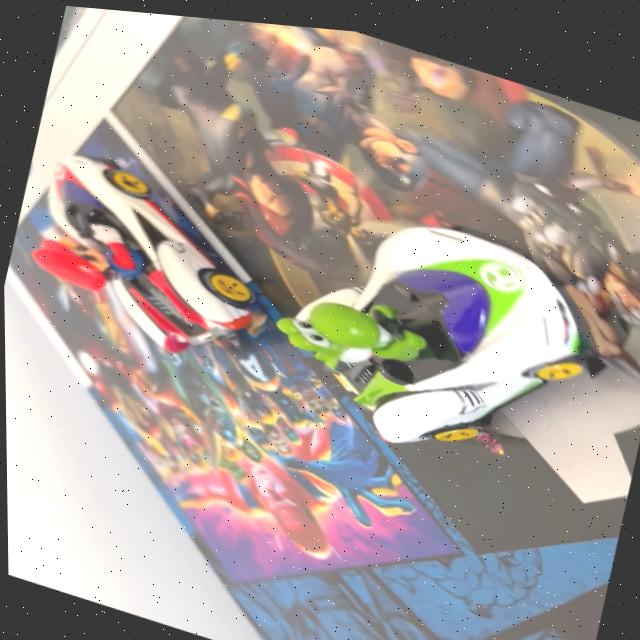mario: (4, 127, 294, 384)
yoshi: (249, 156, 640, 512)
